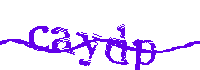a: (51, 25, 74, 53)
c: (29, 25, 51, 54)
d: (105, 23, 131, 68)
p: (132, 38, 156, 70)
y: (76, 29, 101, 69)
